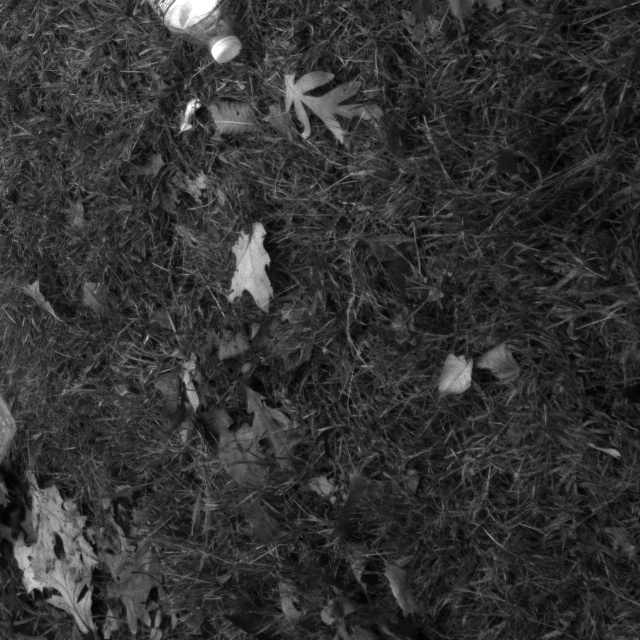bottle: (59, 0, 245, 101)
